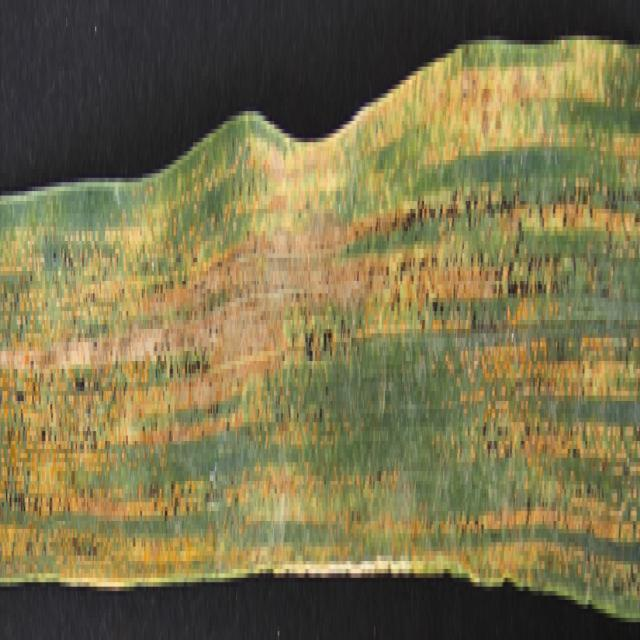leaf rust: (1, 18, 640, 604)
